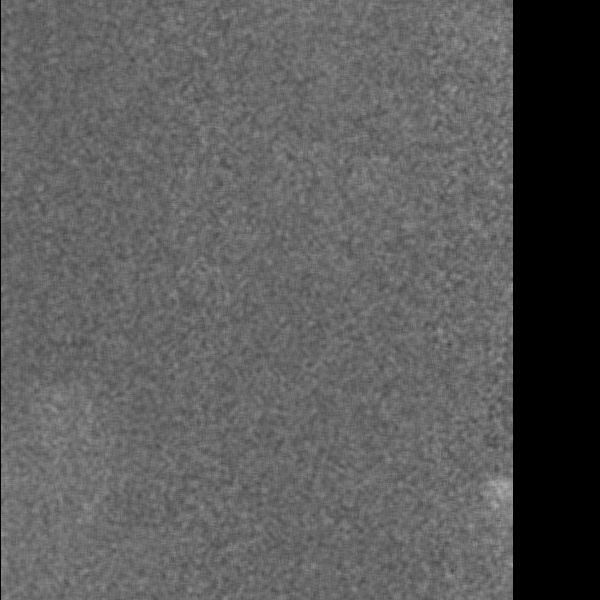spark: (494, 474, 513, 529)
